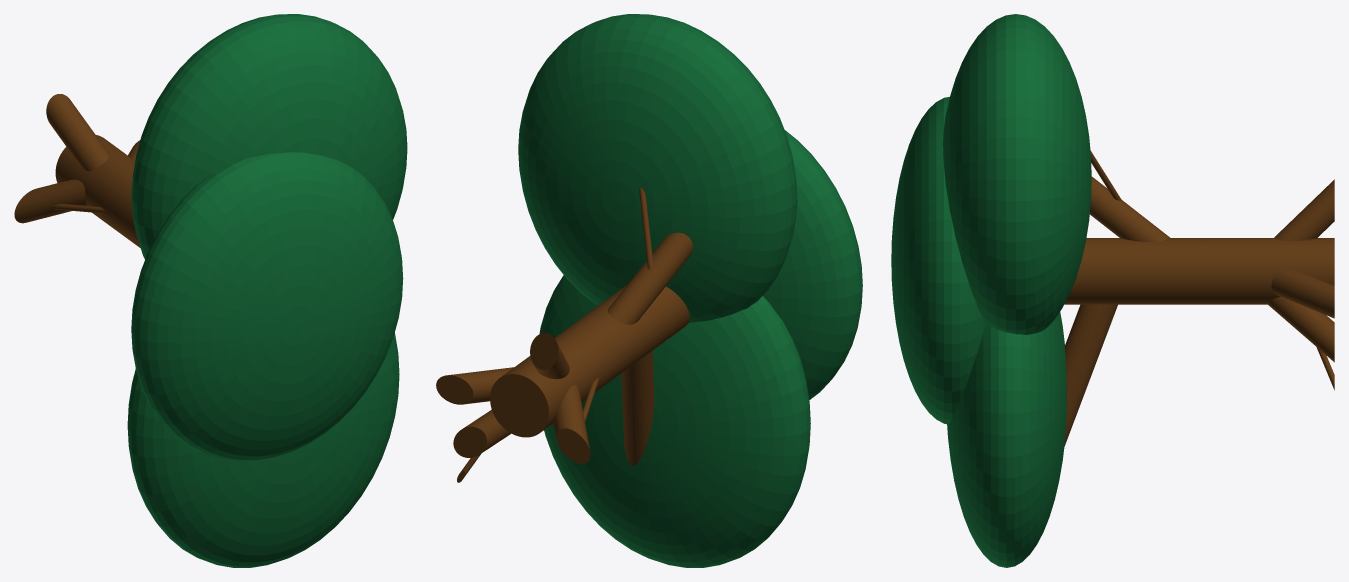
The model's file is tinker.obj.
The picture shows the model from 3 angles, left to right: view 1: azimuth 30°, elevation 25°; view 2: azimuth 150°, elevation 25°; view 3: azimuth 270°, elevation 25°; orthographic projection. The views are drawn at different scales.
Parts seen in each view (by area): view 1: obj_0, obj_2, obj_1, obj_3; view 2: obj_2, obj_1, obj_3, obj_0; view 3: obj_2, obj_3, obj_1, obj_0.
Part boxes in pixels (x1=…): obj_0: x1=131, y1=152, x2=403, y2=461; obj_2: x1=131, y1=14, x2=407, y2=259; obj_1: x1=127, y1=332, x2=399, y2=567; obj_3: x1=14, y1=94, x2=140, y2=247; obj_2: x1=518, y1=14, x2=797, y2=322; obj_1: x1=539, y1=275, x2=810, y2=567; obj_3: x1=436, y1=187, x2=692, y2=482; obj_0: x1=763, y1=130, x2=862, y2=399; obj_2: x1=943, y1=14, x2=1091, y2=334; obj_3: x1=1064, y1=150, x2=1334, y2=446; obj_1: x1=947, y1=312, x2=1066, y2=567; obj_0: x1=891, y1=97, x2=985, y2=424.
Bounding box in the file's own units: 56.5 × 97 × 73.
